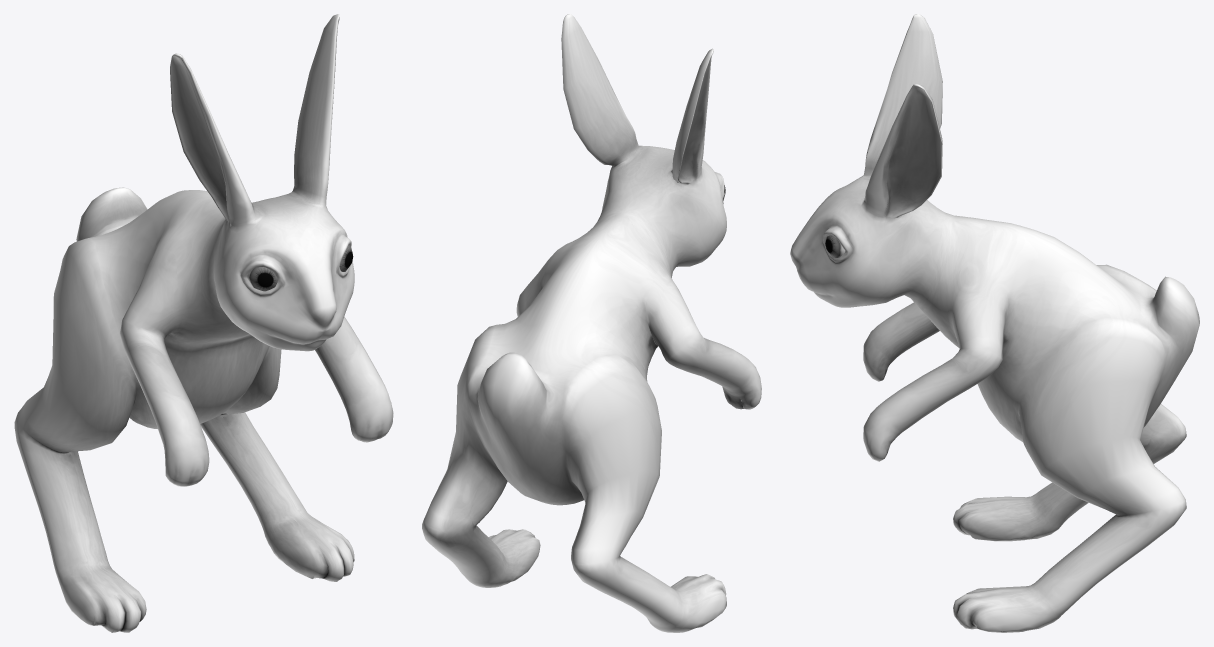
Rendered from Experimental_Rabbit.fbx.
3 views of the same model, side by side, from view 1: azimuth 30°, elevation 25°; view 2: azimuth 150°, elevation 25°; view 3: azimuth 270°, elevation 25° (orthographic). The views are drawn at different scales.
Parts seen in each view (by area): view 1: Experimental_Rabbit; view 2: Experimental_Rabbit; view 3: Experimental_Rabbit.
Part boxes in pixels (x1,y1,x2,y2): Experimental_Rabbit: (14,14,393,632); Experimental_Rabbit: (422,14,761,632); Experimental_Rabbit: (790,14,1199,632).
Bounding box in the file's own units: 2.53 × 5.45 × 3.8.
1 material, 1 textured.
